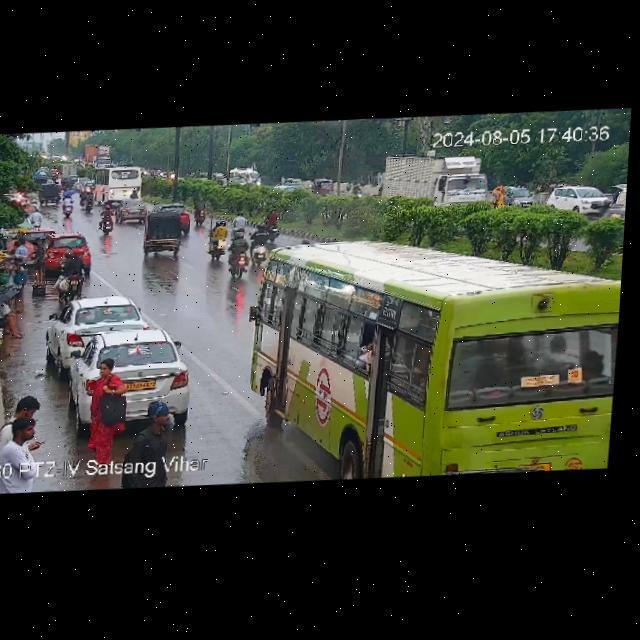bus: (237, 244, 623, 487), (92, 163, 145, 203)
car: (50, 325, 194, 448), (51, 293, 146, 356), (545, 179, 619, 216), (43, 269, 92, 305), (142, 210, 182, 254), (117, 199, 144, 224), (39, 181, 64, 207), (27, 224, 60, 243), (505, 185, 533, 207), (178, 205, 193, 236), (67, 173, 91, 192), (312, 176, 331, 194), (44, 168, 58, 180)
motorcycle: (51, 248, 89, 295), (224, 231, 250, 275), (206, 219, 228, 259), (248, 221, 267, 265), (94, 205, 118, 236), (266, 206, 283, 241), (191, 197, 207, 226), (57, 194, 76, 217), (233, 209, 248, 233), (81, 190, 97, 212), (352, 182, 365, 196), (28, 190, 38, 207), (130, 190, 138, 199)
person: (6, 394, 52, 468), (89, 356, 129, 418), (140, 399, 172, 457), (1, 253, 29, 303), (0, 294, 28, 339), (27, 240, 47, 289), (12, 393, 41, 418), (493, 184, 507, 210), (31, 209, 42, 228), (15, 239, 28, 255)
truck: (382, 144, 482, 211), (82, 142, 116, 170), (229, 166, 257, 186)
